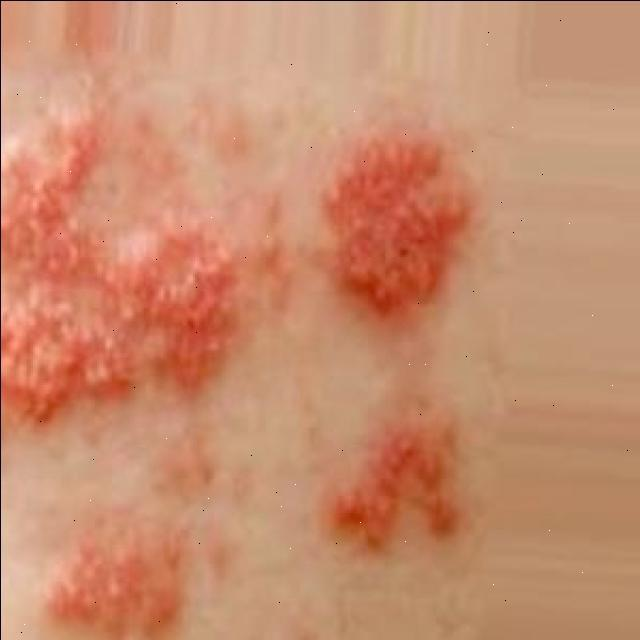Shingles: (0, 112, 240, 421), (314, 118, 474, 313), (316, 396, 474, 554), (47, 515, 191, 640)
